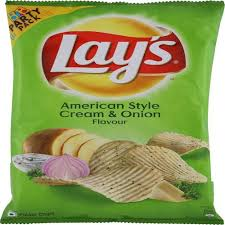lays-large: (8, 3, 222, 225)
